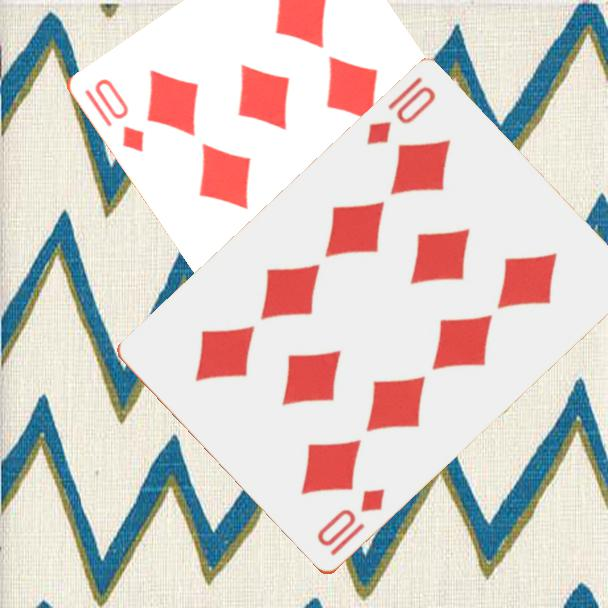d10: (363, 73, 439, 149), (313, 485, 388, 560), (90, 74, 147, 156)
